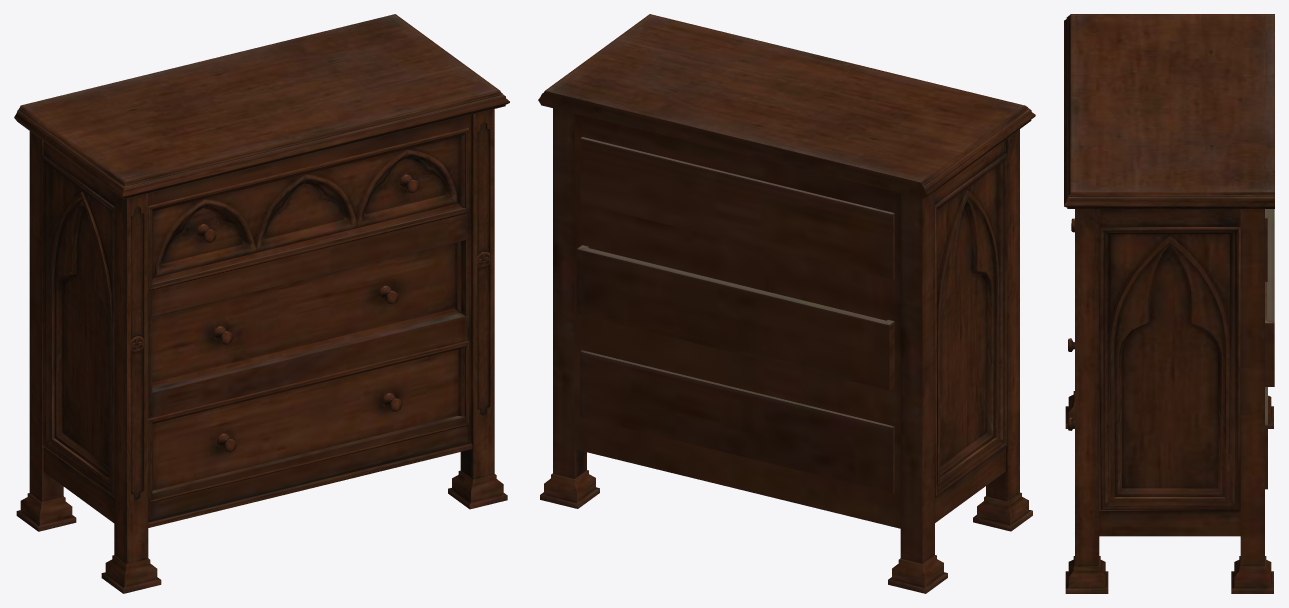
Rendered from carved_chest_of_drawers.glb.
3 views of the same model, side by side, from view 1: azimuth 30°, elevation 25°; view 2: azimuth 150°, elevation 25°; view 3: azimuth 270°, elevation 25° (orthographic). The views are drawn at different scales.
Visible parts, largest first — view 1: GothicCommode_01; view 2: GothicCommode_01; view 3: GothicCommode_01.
Boxes of the visible parts, x1=… form: GothicCommode_01: x1=14, y1=14, x2=509, y2=593; GothicCommode_01: x1=538, y1=14, x2=1035, y2=593; GothicCommode_01: x1=1064, y1=14, x2=1274, y2=593.
Size of the model in its own units: 1.2 by 1.21 by 0.5807.
1 material, 1 textured.
